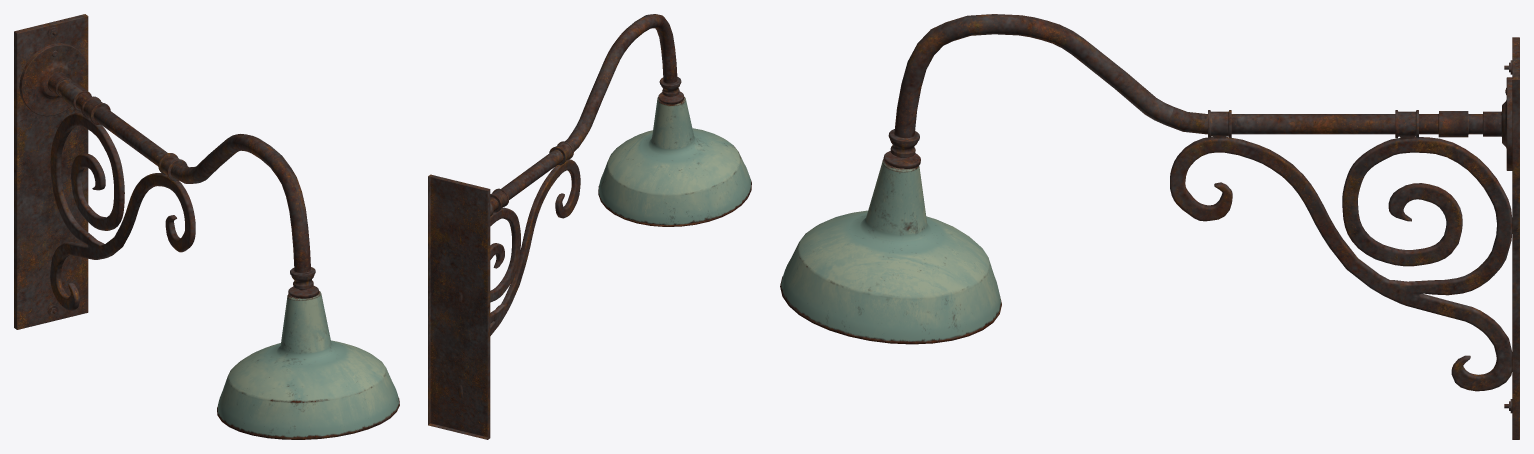
3 views of the same model, side by side, from view 1: azimuth 30°, elevation 25°; view 2: azimuth 150°, elevation 25°; view 3: azimuth 270°, elevation 25° (orthographic). The views are drawn at different scales.
Visible parts, largest first — view 1: Line006_lamp_01_0; view 2: Line006_lamp_01_0; view 3: Line006_lamp_01_0.
Part boxes in pixels (x1=…): Line006_lamp_01_0: x1=14, y1=14, x2=399, y2=439; Line006_lamp_01_0: x1=428, y1=14, x2=751, y2=439; Line006_lamp_01_0: x1=780, y1=14, x2=1519, y2=439.
Bounding box in the file's own units: 51.41 × 103 × 170.
Materials: 1 (1 with a texture image).
